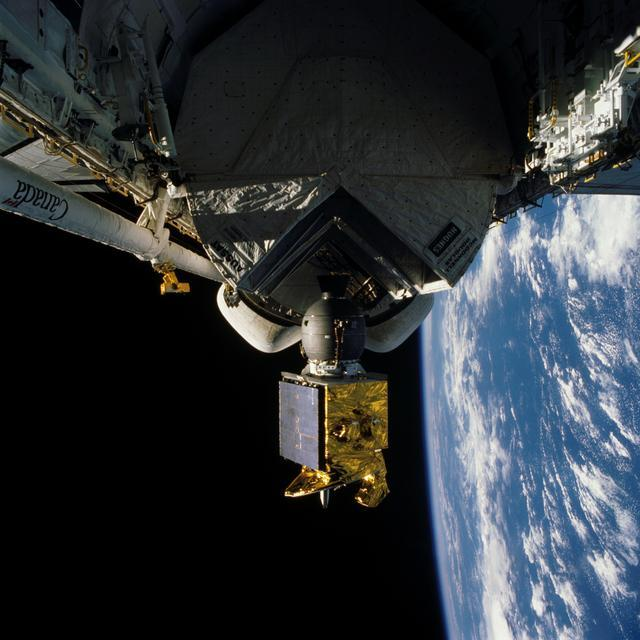satellite: (17, 0, 632, 483)
